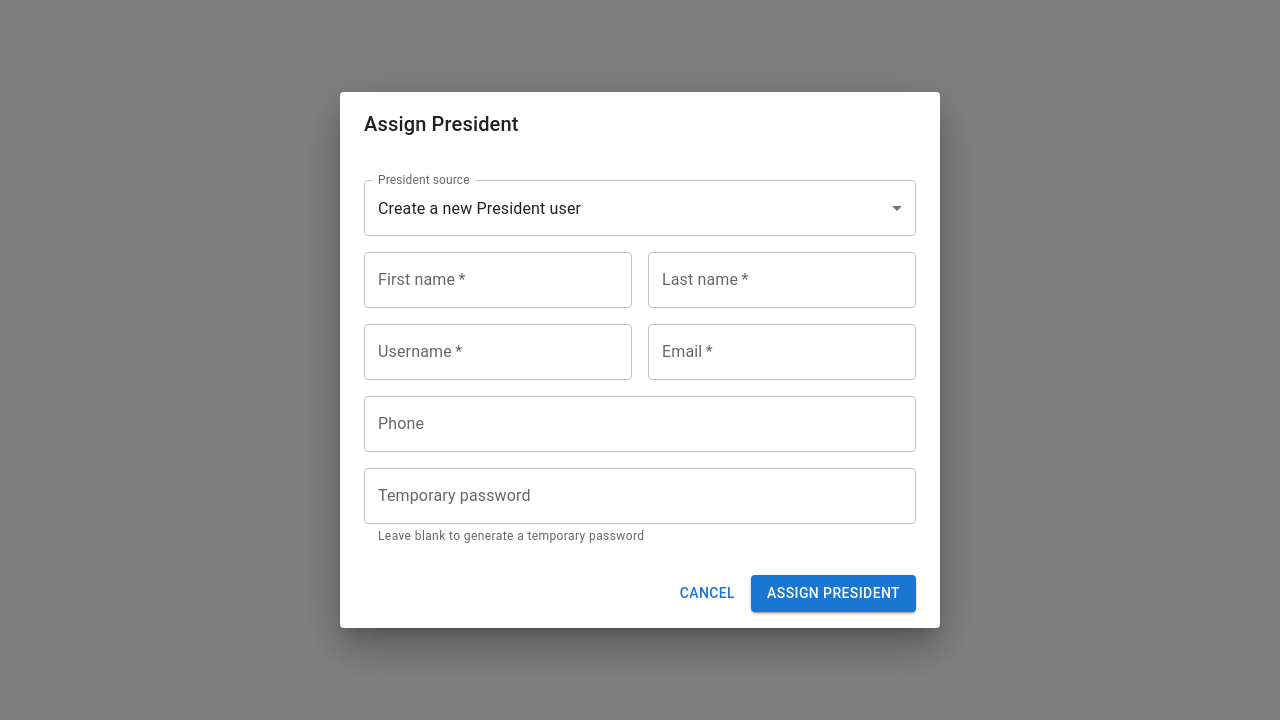
Test: AssignPresidentDialog › does not submit an empty form and says what is missing
Click the button "Assign President". click: (834, 593)
box: [751,575,916,612]
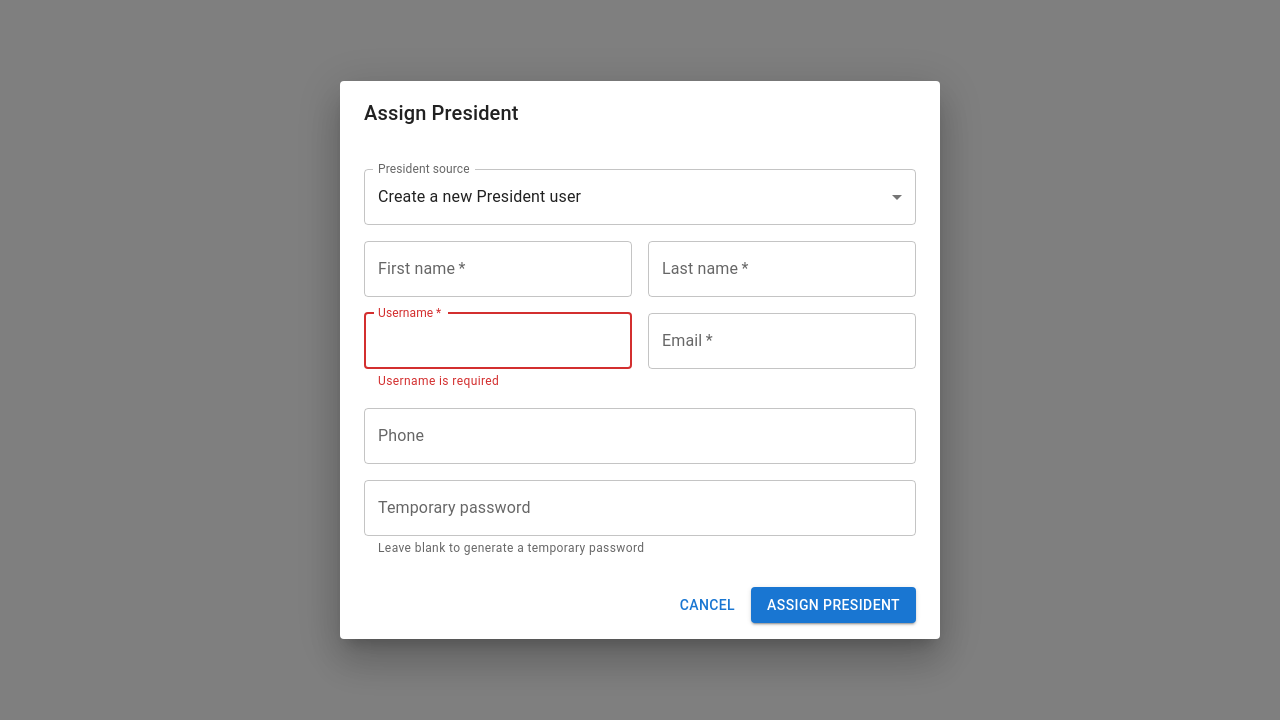
Check: the text "Username is required" is shown, box [378,374,499,388]
